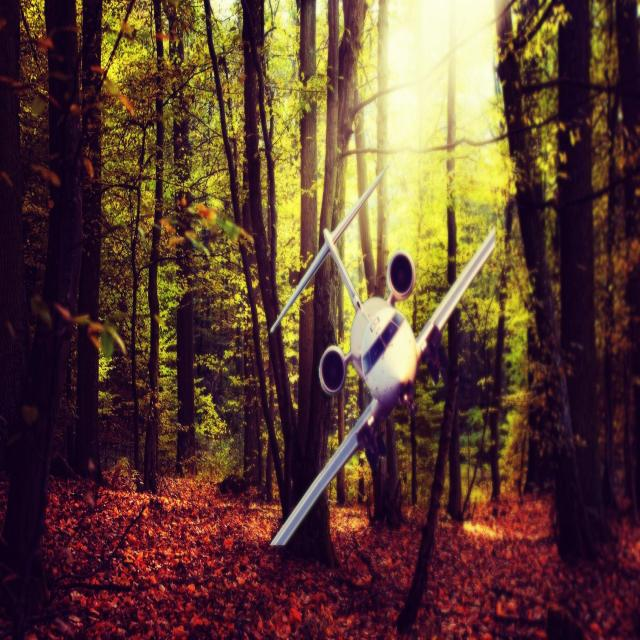airplane: (268, 164, 496, 548)
